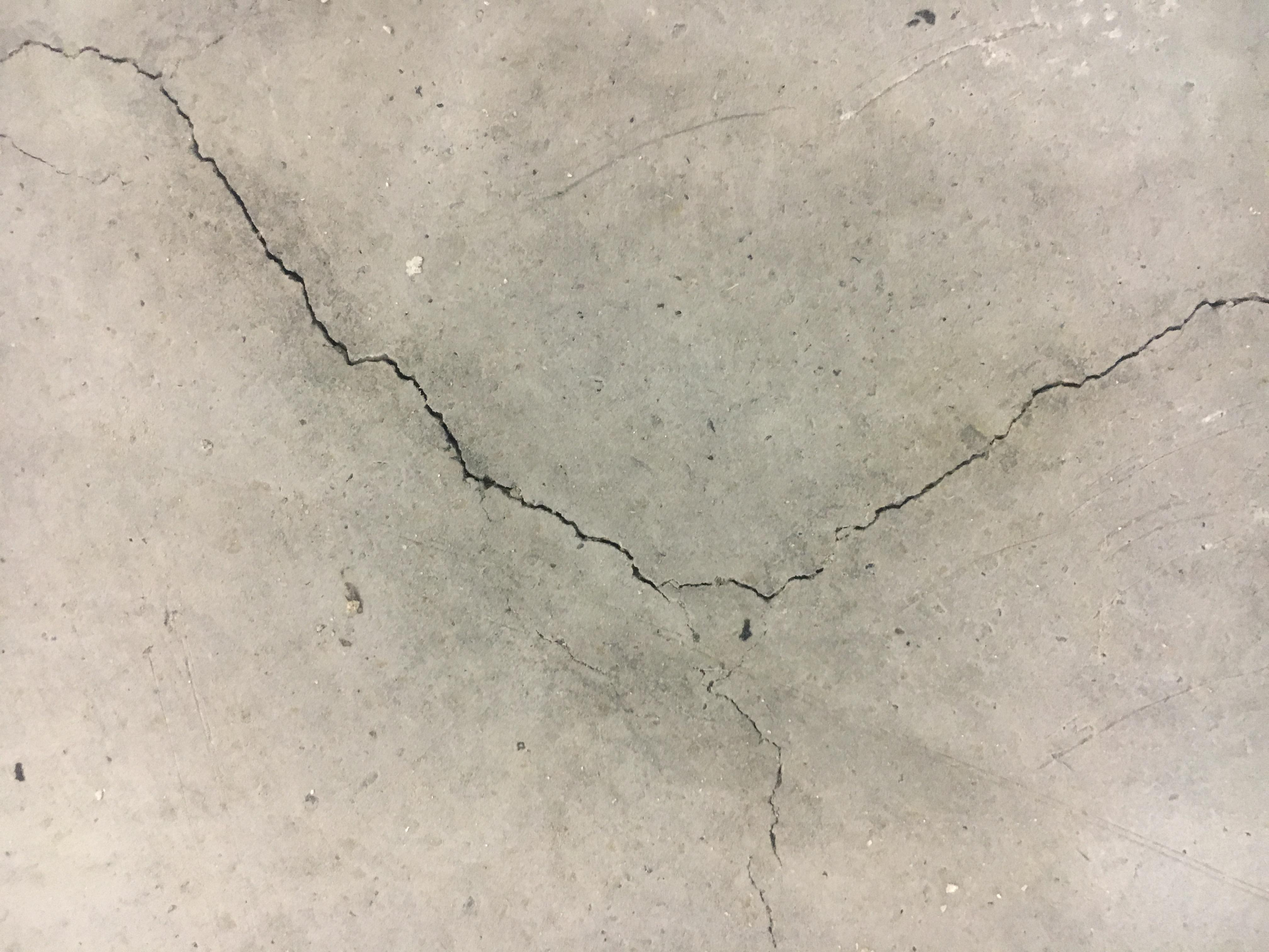Structural-Crack: (4, 27, 1264, 946)
